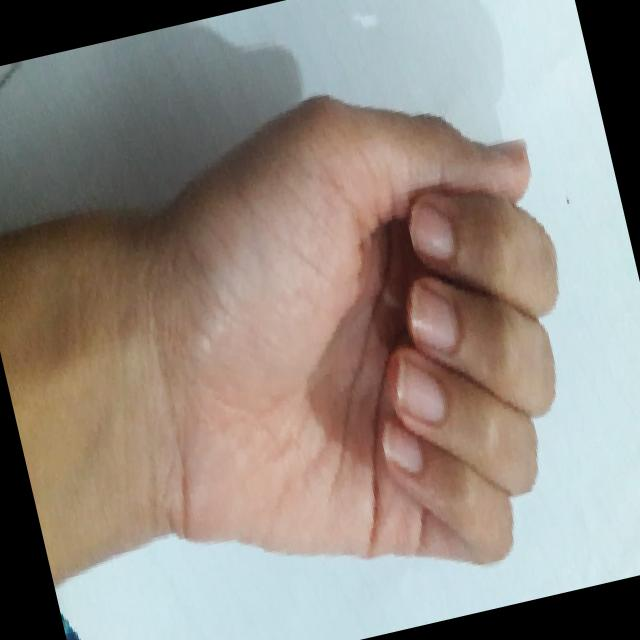Nail: (406, 285, 458, 352), (394, 357, 445, 423), (408, 205, 455, 261), (380, 417, 422, 473)
